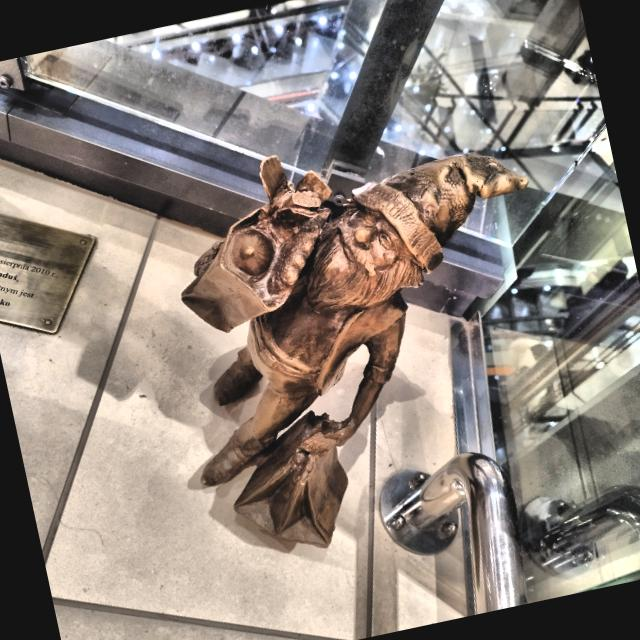Trendus: (183, 153, 526, 547)
